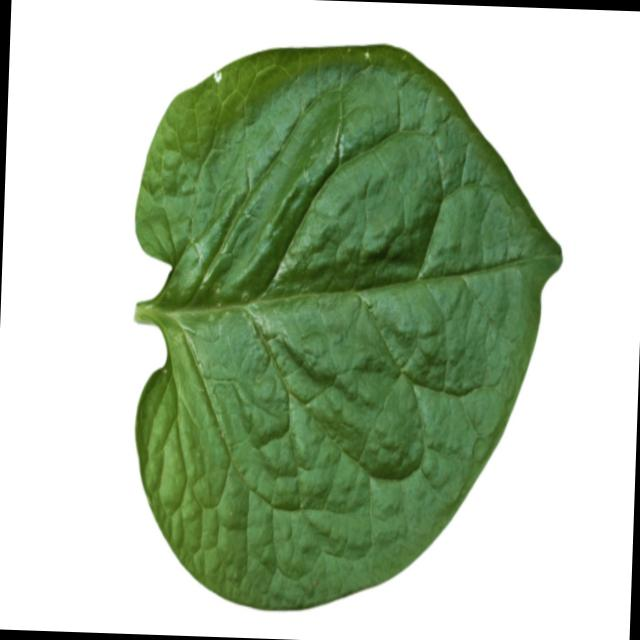Medicinal-Basale: (118, 29, 570, 616)
